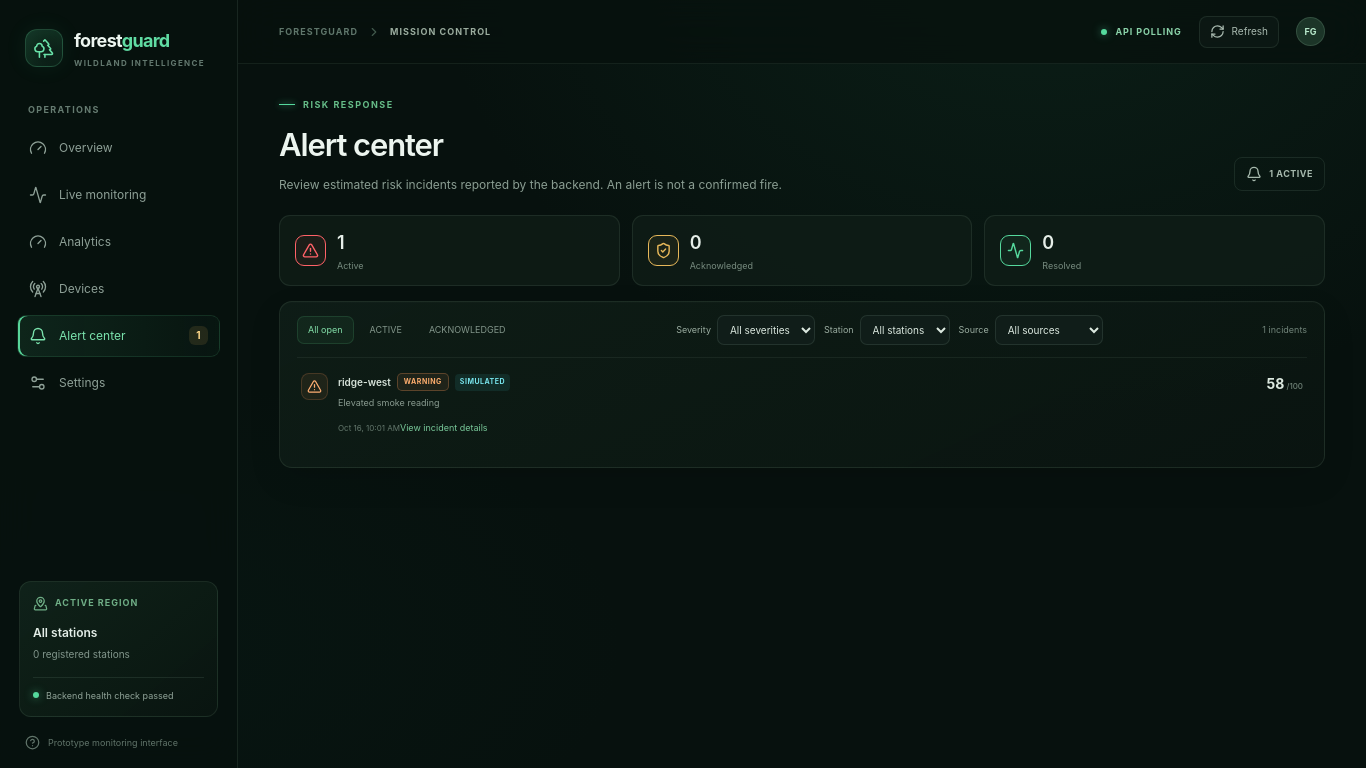
Test: mission control interface › keeps an alert active and clears a rejected operator token
The width and height of the screenshot is (1366, 768).
Click the button "View incident details" at (444, 428), box top-left (400, 421), bottom-right (488, 434)
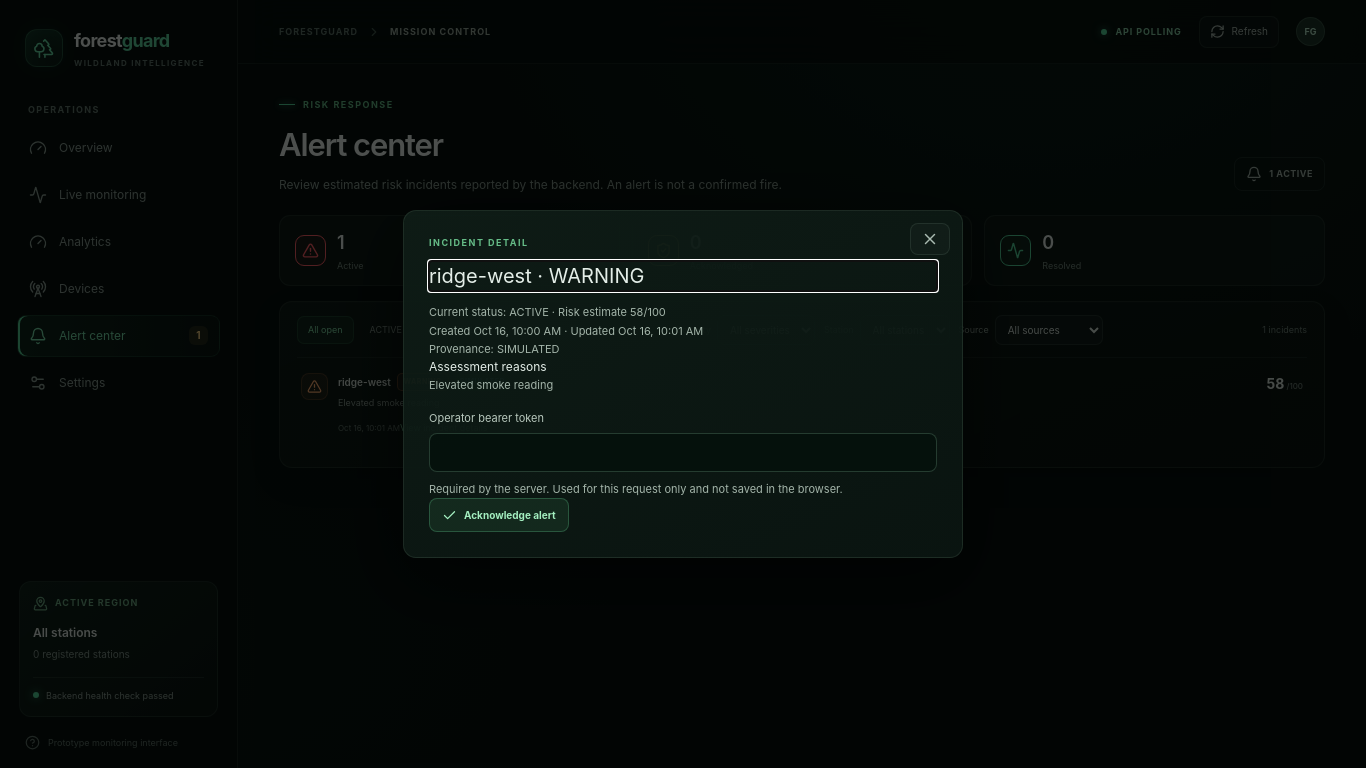
Type "incorrect-token" into the password field labelled "Operator bearer token" at (683, 453), box top-left (429, 434), bottom-right (937, 472)
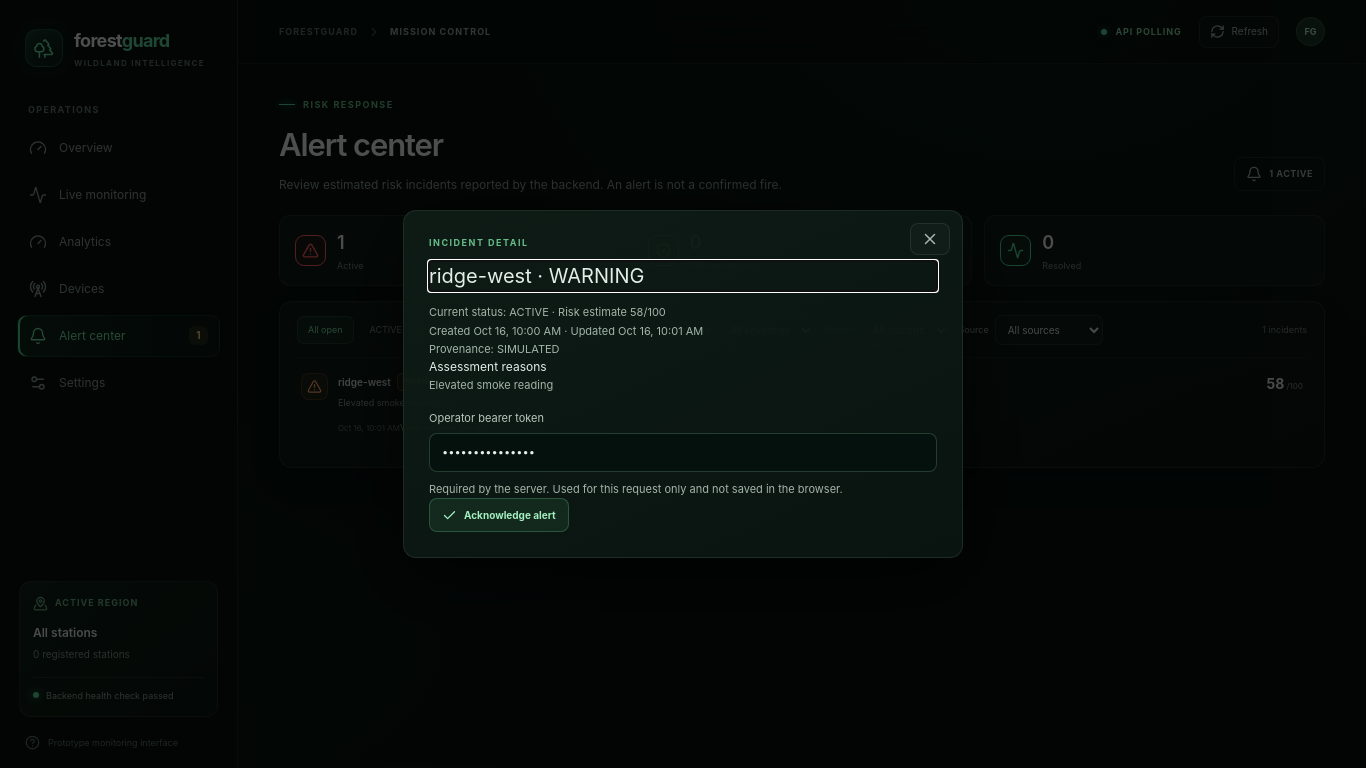
Click the button "Acknowledge alert" at (499, 515), box top-left (429, 498), bottom-right (569, 532)
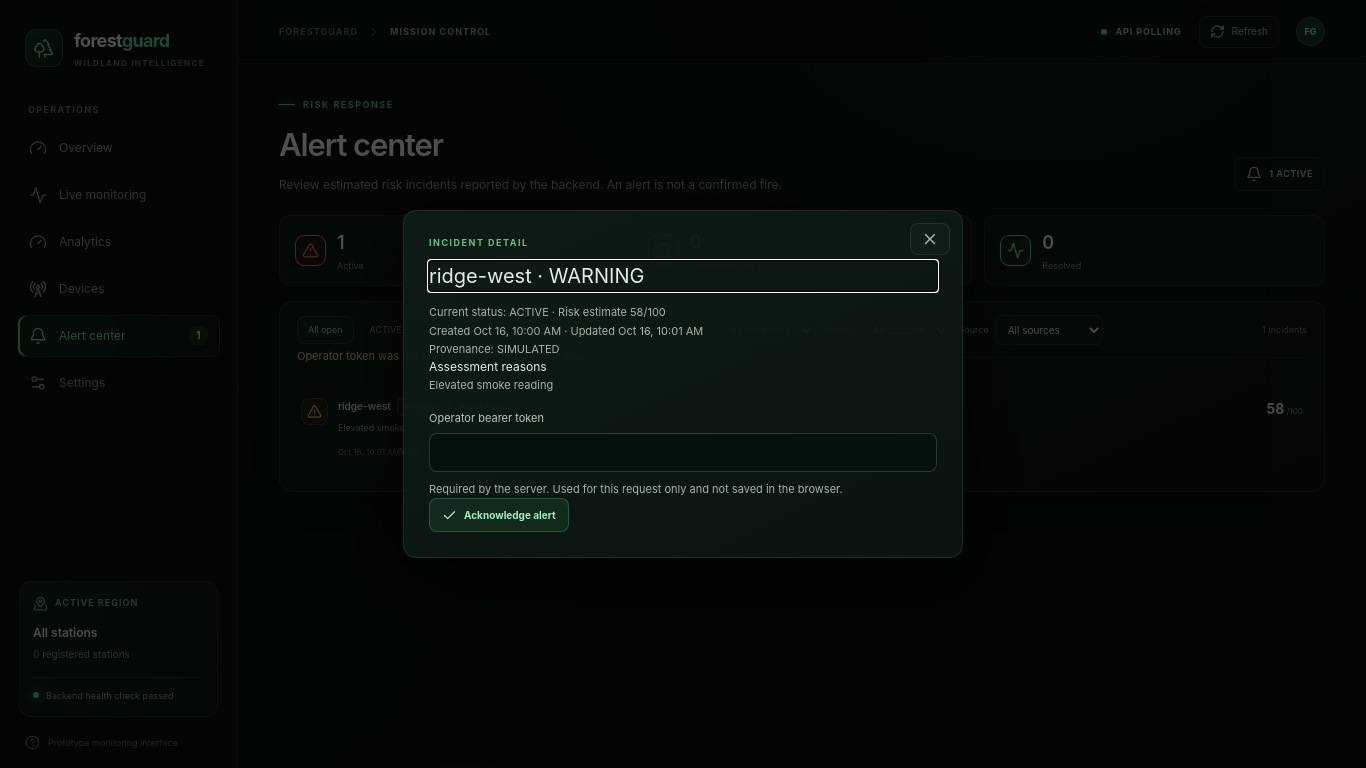
Expected: the dialog shows "Current status: ACTIVE", top-left (403, 210), bottom-right (963, 558)
Expected: the message shows "Operator token was not accepted", top-left (297, 349), bottom-right (594, 363)
Expected: the password field labelled "Operator bearer token" is empty, top-left (429, 434), bottom-right (937, 472)
